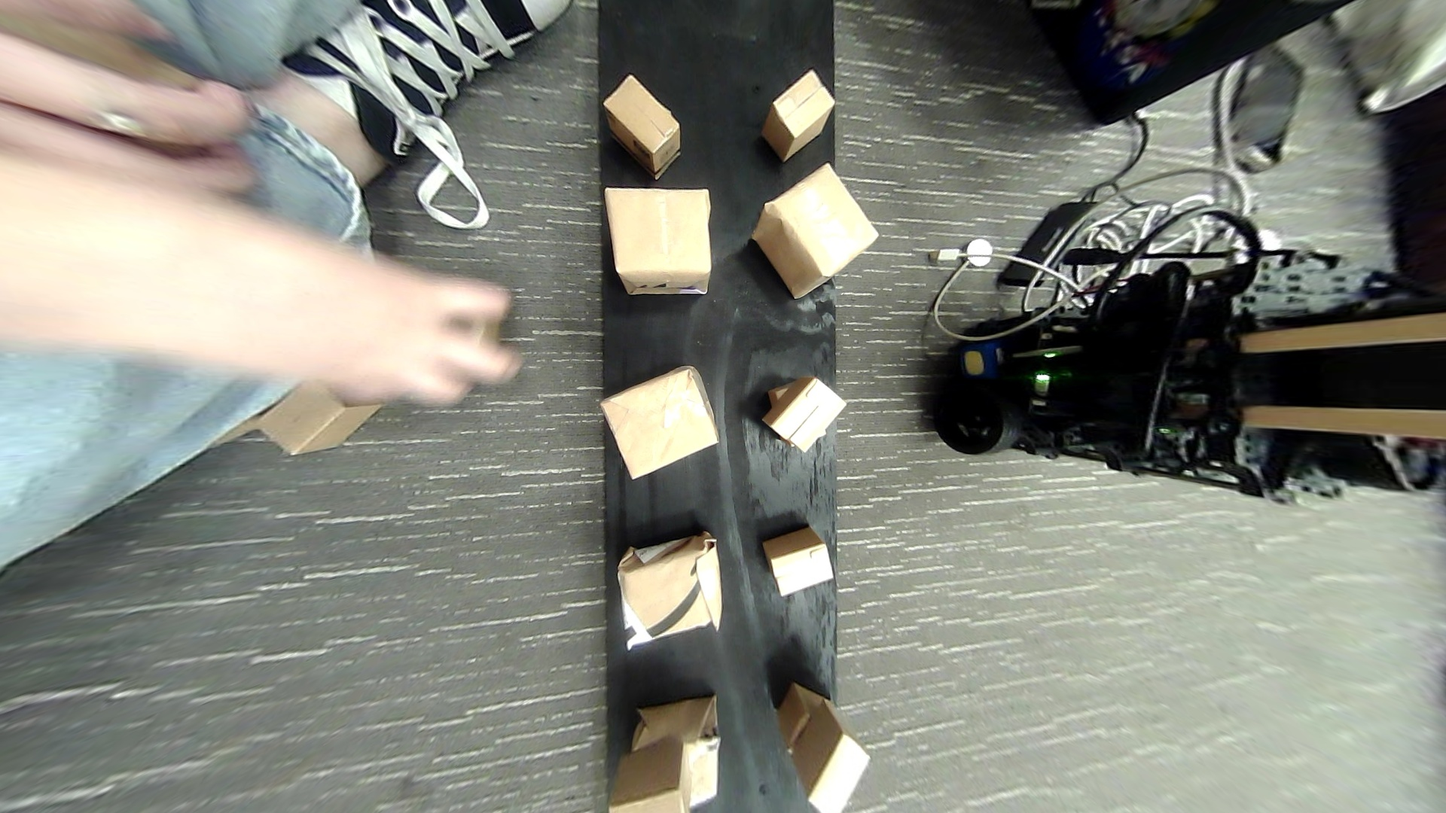package: (764, 679, 874, 803), (755, 169, 871, 282), (618, 708, 721, 812), (616, 548, 728, 641), (596, 380, 714, 457), (609, 193, 702, 286), (757, 73, 833, 163), (602, 82, 673, 169), (767, 371, 844, 443), (763, 524, 835, 598)
